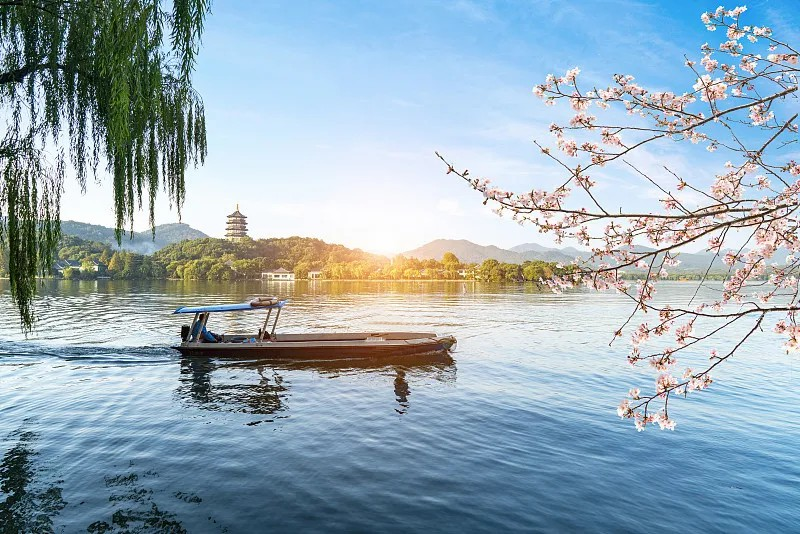Leifeng: (223, 199, 248, 244)
